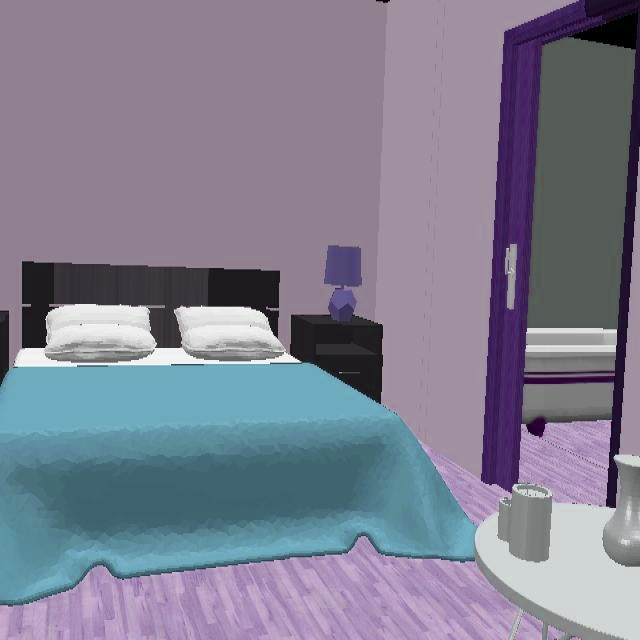bathtube: (522, 328, 618, 424)
bed: (0, 348, 472, 607)
lamp: (324, 247, 361, 329)
nighttable: (289, 315, 384, 401)
pillow: (46, 304, 157, 364), (174, 307, 286, 363)
table: (475, 485, 640, 640)
